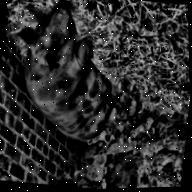boar: (1, 0, 179, 158)
